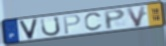C: (84, 12, 104, 32)
P: (103, 9, 127, 31), (62, 14, 82, 36)
U: (40, 15, 62, 37)
V: (125, 5, 148, 28), (18, 18, 39, 40)
